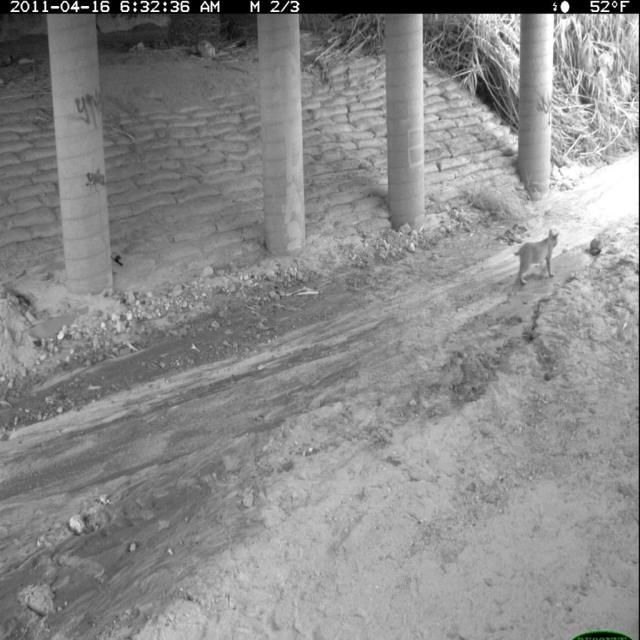bobcat: (513, 228, 562, 287)
